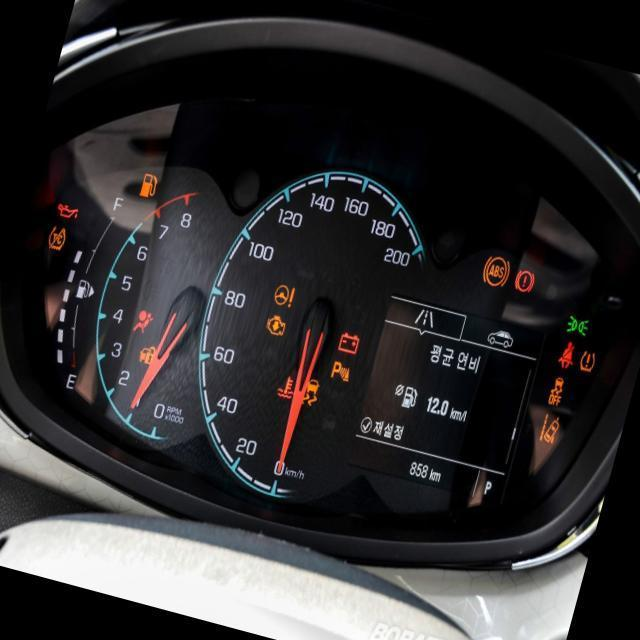Engine cooling system: (274, 372, 296, 399)
Low fuel level: (137, 169, 159, 199)
SideLamp: (564, 313, 590, 337)
